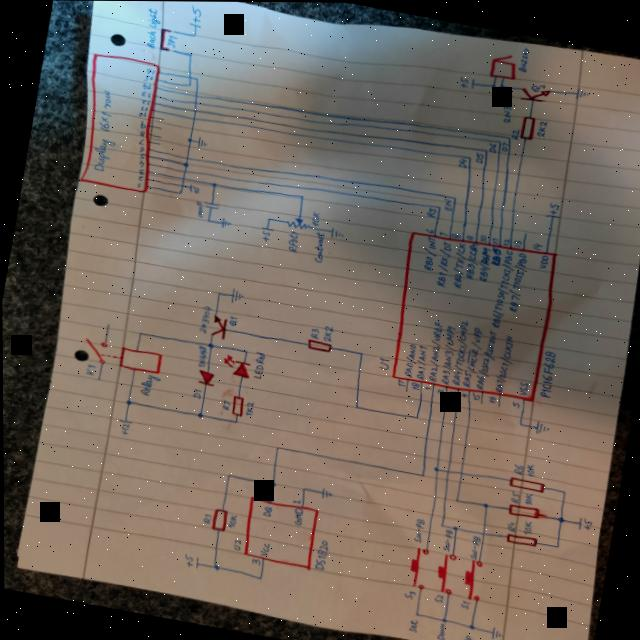capacitor: (202, 201, 219, 210)
crossover: (178, 168, 188, 174), (181, 155, 190, 161), (177, 176, 186, 181), (176, 183, 185, 188), (190, 108, 197, 113), (191, 100, 198, 105), (442, 468, 449, 473), (189, 116, 196, 121), (456, 470, 462, 475), (479, 530, 484, 535), (192, 93, 198, 97), (186, 75, 190, 79)
diode: (220, 353, 251, 378), (195, 369, 215, 386)
ground: (227, 286, 244, 304), (531, 420, 549, 436), (488, 625, 503, 640), (573, 86, 588, 100), (217, 216, 231, 230), (327, 227, 343, 239), (318, 487, 332, 500), (195, 135, 207, 149)
junction: (209, 562, 220, 571), (553, 515, 563, 523), (122, 399, 131, 406), (193, 411, 202, 418), (185, 51, 194, 58), (355, 349, 364, 356), (479, 501, 488, 508), (133, 329, 142, 336), (188, 32, 197, 39), (266, 480, 275, 487), (350, 403, 359, 410), (430, 465, 439, 472), (204, 341, 213, 348), (208, 180, 216, 187), (254, 574, 261, 581), (297, 486, 305, 492), (416, 471, 424, 477), (180, 162, 188, 168), (558, 488, 565, 494), (230, 418, 237, 424), (264, 216, 271, 221), (551, 543, 558, 548), (514, 421, 521, 426), (272, 445, 279, 450), (411, 414, 418, 419), (296, 194, 303, 199), (214, 291, 221, 296), (451, 497, 458, 502), (175, 191, 182, 196), (450, 525, 457, 530), (438, 617, 445, 622), (466, 624, 473, 629), (496, 83, 503, 88), (185, 137, 192, 142), (449, 195, 456, 200), (412, 611, 418, 616), (489, 82, 495, 87), (224, 472, 229, 477), (186, 83, 190, 87), (193, 76, 197, 80), (438, 523, 442, 527), (205, 218, 209, 222), (242, 349, 246, 353), (466, 155, 470, 159), (482, 148, 486, 152), (496, 139, 500, 143), (505, 135, 509, 139), (436, 205, 440, 209)
resistor: (504, 501, 539, 520), (506, 475, 543, 492), (206, 507, 229, 532), (503, 531, 536, 547), (517, 114, 535, 140), (303, 337, 332, 353), (227, 393, 243, 416), (284, 216, 309, 230)
switch: (458, 557, 484, 600), (404, 545, 429, 589), (431, 550, 456, 594), (155, 26, 179, 54)
terminal: (542, 212, 558, 219), (467, 76, 475, 89), (192, 556, 198, 569), (187, 22, 200, 28), (575, 516, 581, 529), (116, 419, 130, 424), (259, 226, 273, 231), (187, 183, 192, 192)
text: (88, 90, 123, 173), (487, 248, 515, 329), (489, 330, 517, 394), (473, 323, 498, 390), (502, 250, 528, 313), (447, 318, 470, 385), (459, 326, 483, 388), (435, 324, 459, 384), (422, 320, 445, 381), (535, 349, 559, 399), (431, 237, 454, 287), (446, 238, 469, 288), (140, 7, 162, 49), (417, 234, 439, 273), (461, 242, 480, 280), (473, 245, 493, 281), (410, 343, 429, 379), (400, 341, 418, 377), (311, 537, 329, 571), (136, 372, 160, 397), (496, 91, 514, 123), (309, 230, 326, 263), (194, 303, 211, 334), (408, 516, 425, 544), (249, 351, 265, 379), (283, 229, 300, 253), (466, 534, 480, 560), (516, 45, 529, 72), (439, 527, 453, 551), (487, 244, 502, 266), (193, 345, 207, 368), (288, 507, 304, 526), (187, 4, 202, 24), (433, 621, 446, 640), (374, 355, 389, 371), (255, 541, 269, 557), (319, 324, 332, 341), (241, 399, 254, 416), (534, 119, 547, 136), (191, 200, 204, 217), (515, 379, 528, 395), (164, 31, 176, 48), (528, 81, 545, 93), (578, 516, 591, 531), (523, 462, 536, 477), (405, 617, 417, 633), (520, 519, 532, 535), (509, 462, 523, 475), (507, 488, 519, 503), (224, 513, 236, 528), (180, 553, 192, 568), (83, 363, 96, 376), (455, 598, 469, 610), (546, 201, 558, 215), (454, 157, 468, 169), (440, 197, 452, 211), (456, 75, 468, 89), (520, 491, 532, 505), (536, 254, 547, 269), (423, 205, 435, 218), (408, 379, 421, 391), (503, 519, 516, 531), (259, 504, 271, 517), (399, 588, 413, 599), (309, 211, 319, 226), (472, 150, 484, 162), (189, 388, 201, 400), (485, 140, 497, 152), (307, 327, 319, 339), (219, 399, 231, 411), (258, 229, 269, 242), (199, 513, 211, 524), (118, 422, 128, 435), (230, 537, 240, 550), (509, 127, 519, 140), (431, 592, 442, 603), (433, 386, 444, 396), (226, 315, 236, 326), (459, 633, 474, 640), (248, 556, 259, 565), (530, 241, 541, 250), (499, 140, 508, 151), (140, 81, 151, 90), (469, 391, 479, 400), (485, 394, 495, 403), (288, 496, 299, 504), (141, 74, 152, 82), (139, 90, 150, 98), (190, 185, 199, 194), (509, 400, 519, 408), (395, 378, 405, 386), (477, 234, 486, 242), (500, 236, 508, 245), (511, 239, 520, 247), (143, 68, 153, 75), (140, 98, 150, 105), (422, 227, 433, 233), (436, 230, 447, 236), (448, 232, 459, 238), (488, 236, 497, 243), (136, 159, 143, 168), (138, 120, 145, 129), (136, 110, 145, 117), (463, 234, 473, 240), (136, 168, 144, 175), (137, 152, 145, 159), (136, 137, 143, 145), (447, 390, 456, 396), (138, 105, 147, 111), (134, 181, 141, 188), (136, 174, 143, 181), (136, 146, 143, 153), (137, 130, 144, 137), (255, 492, 263, 498), (422, 385, 431, 390), (457, 392, 466, 397)
transistor: (517, 84, 550, 103), (207, 314, 227, 339)
